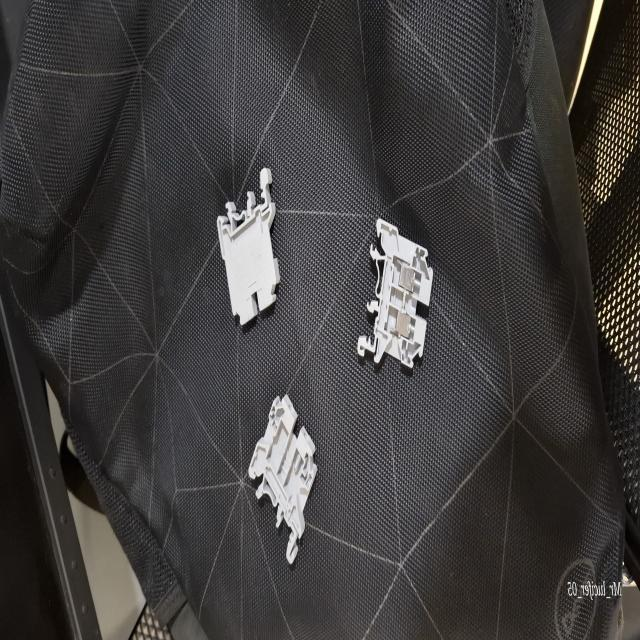Inverted: (216, 167, 281, 329)
Pass: (356, 216, 434, 370)
Reject: (248, 392, 317, 565)
